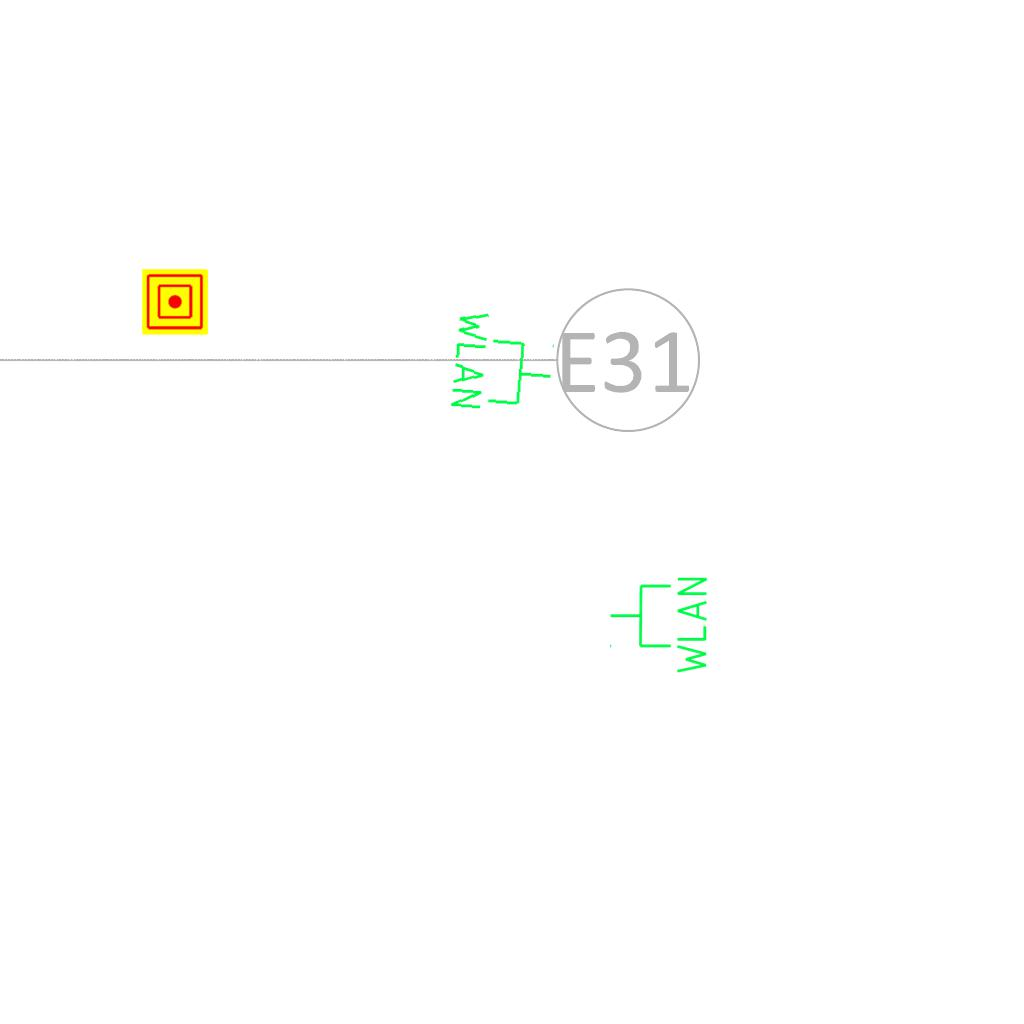NAM-Nichtautomatischer_Melder: (142, 269, 208, 335)
WLAN: (446, 305, 560, 420), (607, 573, 711, 678)
